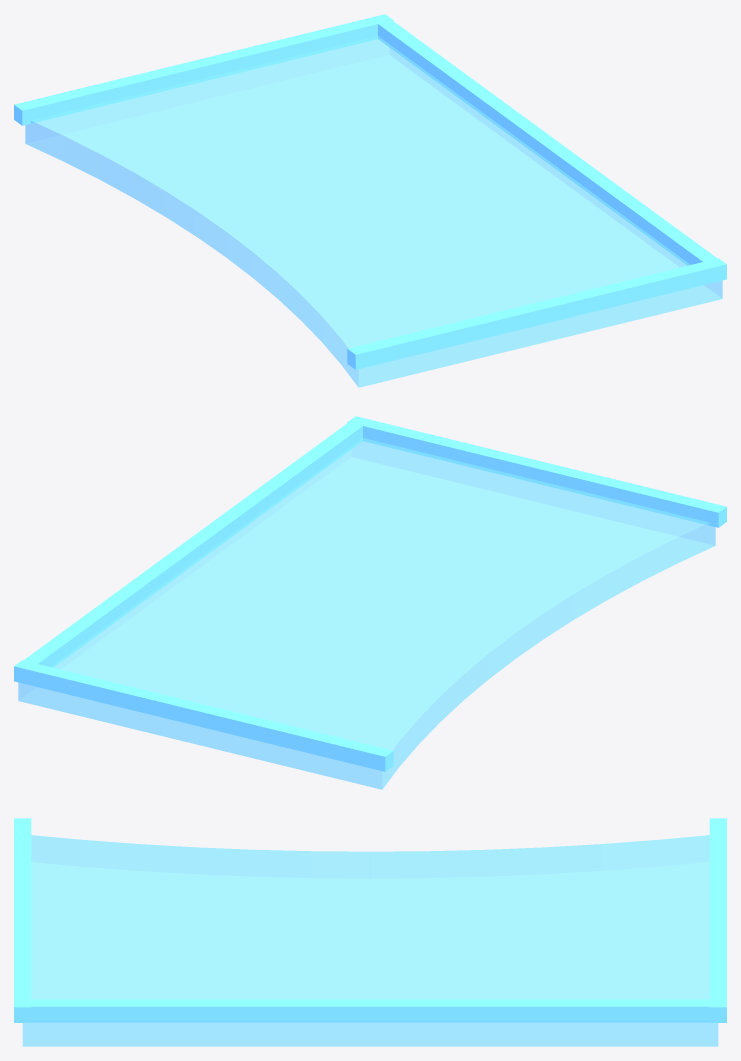
Rendered from Pier_Ghost_Rotation_v2.glb.
3 renders of one model, top to bottom at view 1: azimuth 30°, elevation 25°; view 2: azimuth 150°, elevation 25°; view 3: azimuth 270°, elevation 25°, orthographic. The views are drawn at different scales.
Parts seen in each view (by area): view 1: Pier_Ghost_Rotation_v2; view 2: Pier_Ghost_Rotation_v2; view 3: Pier_Ghost_Rotation_v2.
Part boxes in pixels (x1,y1,x2,y2): Pier_Ghost_Rotation_v2: (14,14,726,387); Pier_Ghost_Rotation_v2: (14,416,726,789); Pier_Ghost_Rotation_v2: (14,818,726,1046).
Bounding box in the file's own units: 1.8 × 0.175 × 2.87.
